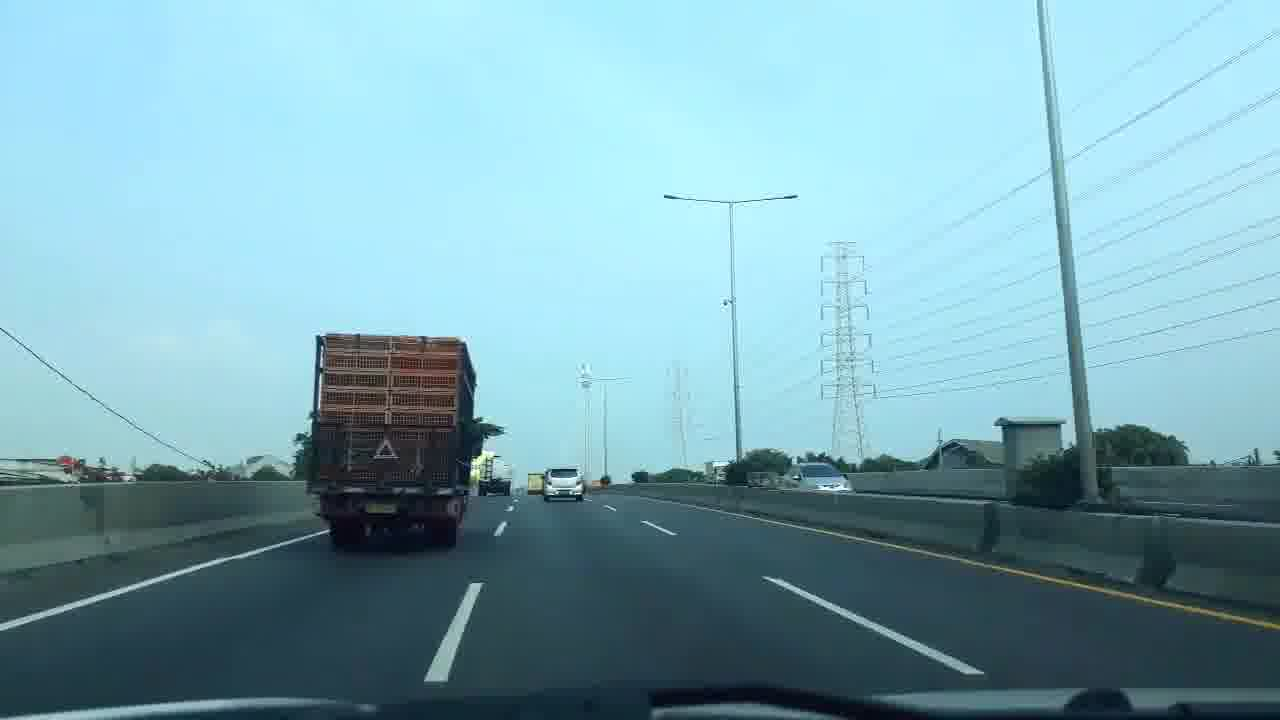plate_positive: (365, 503, 399, 513), (559, 490, 570, 495)
